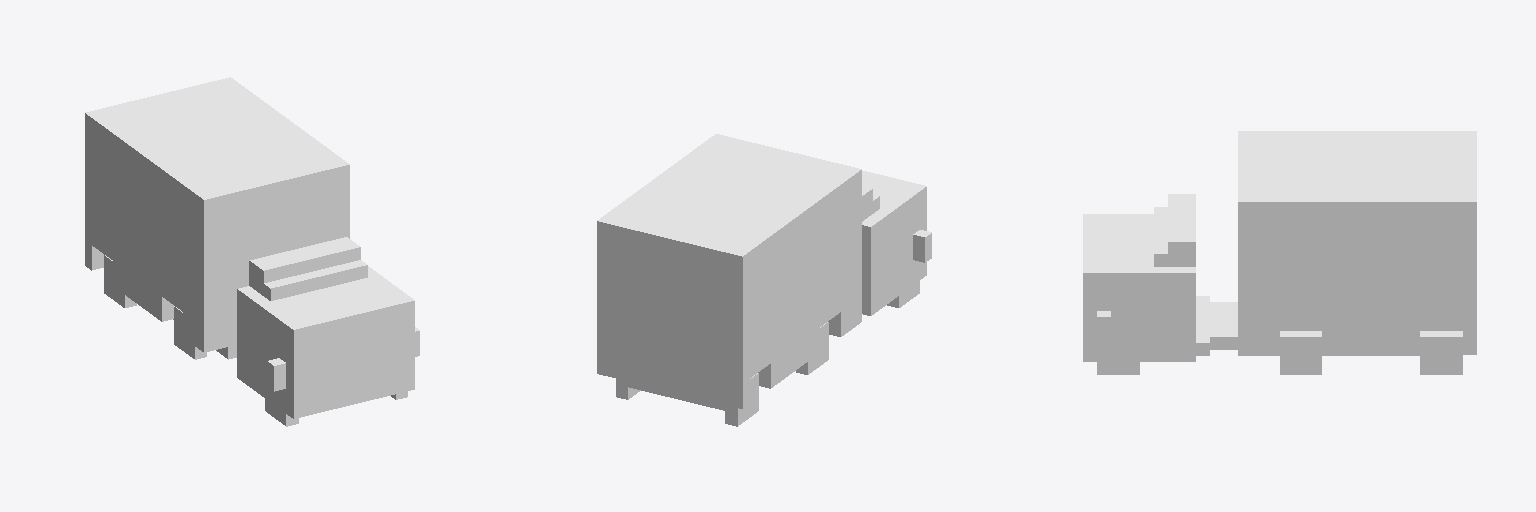
File: Red_Truck.obj
3 renders of one model, left to right at view 1: azimuth 30°, elevation 25°; view 2: azimuth 150°, elevation 25°; view 3: azimuth 270°, elevation 25°, orthographic.
Visible parts, largest first — view 1: object 1; view 2: object 1; view 3: object 1.
Part boxes in pixels (left/top/right/bottom): object 1: left=85, top=77, right=419, bottom=426; object 1: left=597, top=134, right=931, bottom=426; object 1: left=1083, top=131, right=1476, bottom=374.
Size of the model in its own units: 1.2 by 1.4 by 2.8.